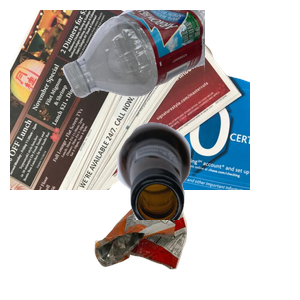glass: (115, 120, 300, 300)
paper: (10, 10, 250, 190)
plastic: (60, 10, 300, 100)
trash: (92, 174, 272, 300)
